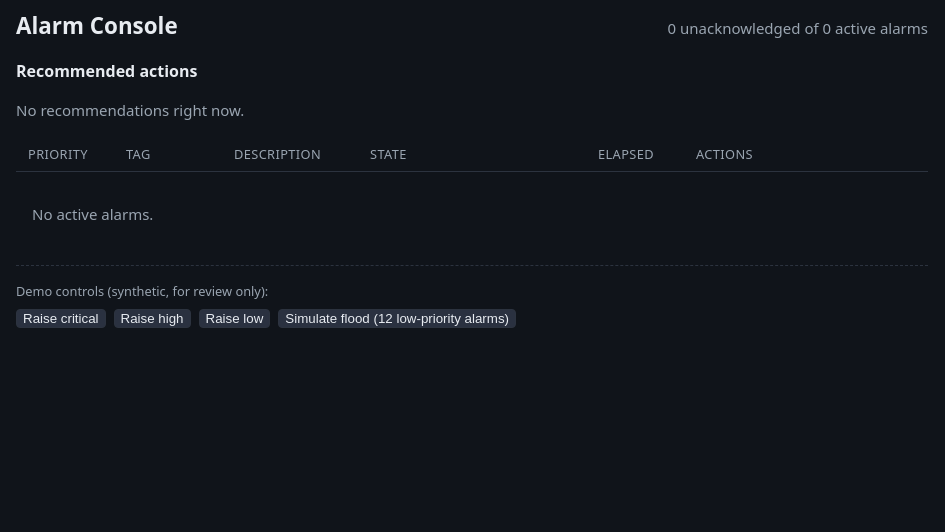
AlarmConsole › shelving an alarm opens the inline form and, on submit, moves the alarm to SHELVED
The image size is (945, 532).
Click the button "Raise low". click: point(234, 319)
box: [198,309,270,328]
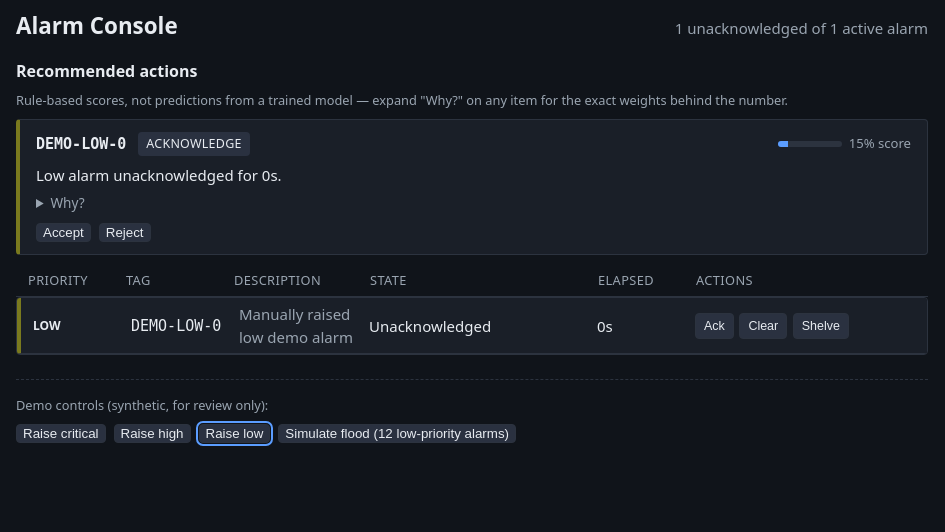
Click the button "Shelve". click: point(821, 326)
box: [793,313,849,339]
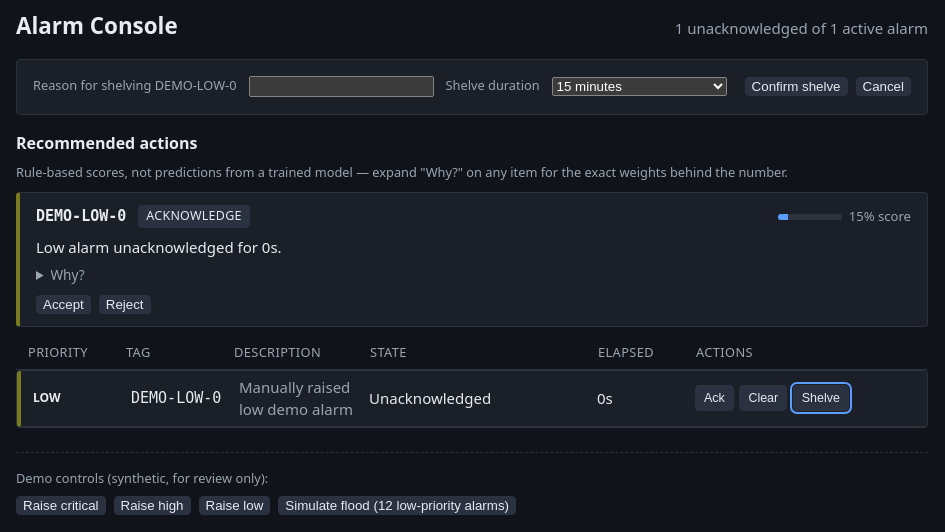
Type "nuisance, recalibration pending" into the field labelled "Reason for shelving DEMO-LOW-0". click: point(341, 87)
box: [248,76,434,97]
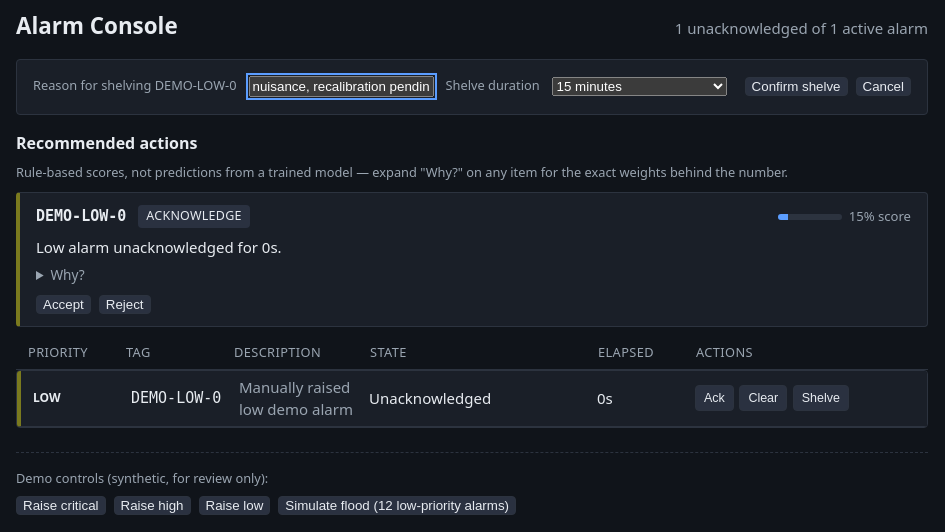
Click the button "Confirm shelve". click: point(796, 87)
box: [745,77,848,96]
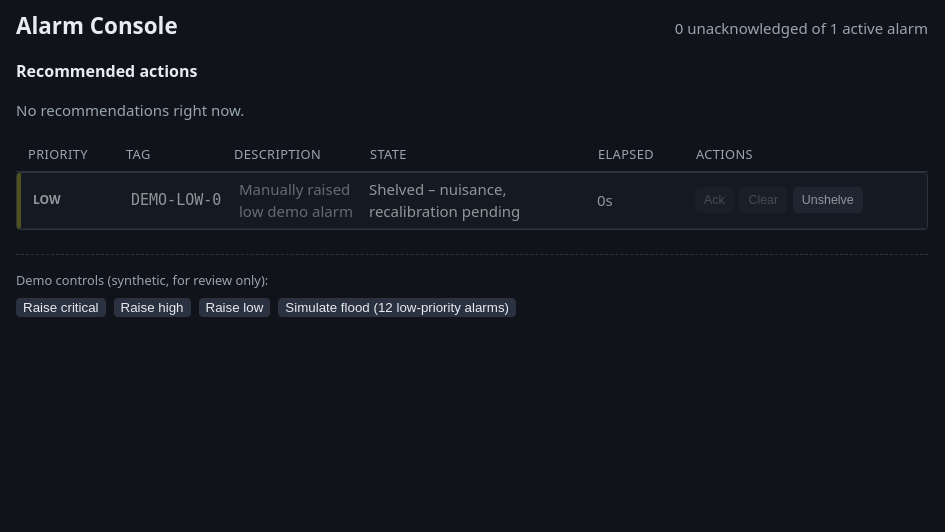
Now the form is gone
Now the text "Shelved – nuisance, recalibration pending" is shown, box [369,179,520,221]
